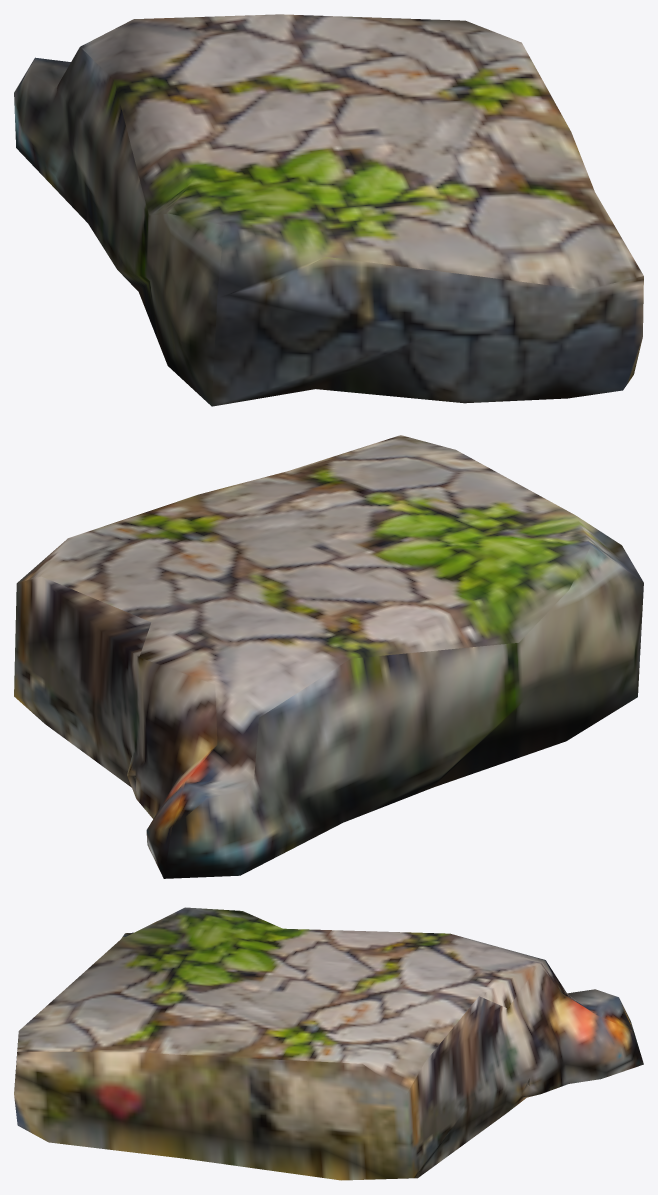
File: RockWall_Floor.fbx
The picture shows the model from 3 angles, top to bottom: view 1: azimuth 30°, elevation 25°; view 2: azimuth 150°, elevation 25°; view 3: azimuth 270°, elevation 25°; orthographic projection. The views are drawn at different scales.
Parts seen in each view (by area): view 1: RockWall_Floor_Mesh; view 2: RockWall_Floor_Mesh; view 3: RockWall_Floor_Mesh.
Boxes of the visible parts, x1,y1,x2,y2 form: RockWall_Floor_Mesh: [14, 14, 643, 406]; RockWall_Floor_Mesh: [14, 435, 643, 878]; RockWall_Floor_Mesh: [14, 907, 643, 1180].
Bounding box in the file's own units: 6 × 2.06 × 9.09.
1 material, 1 textured.
